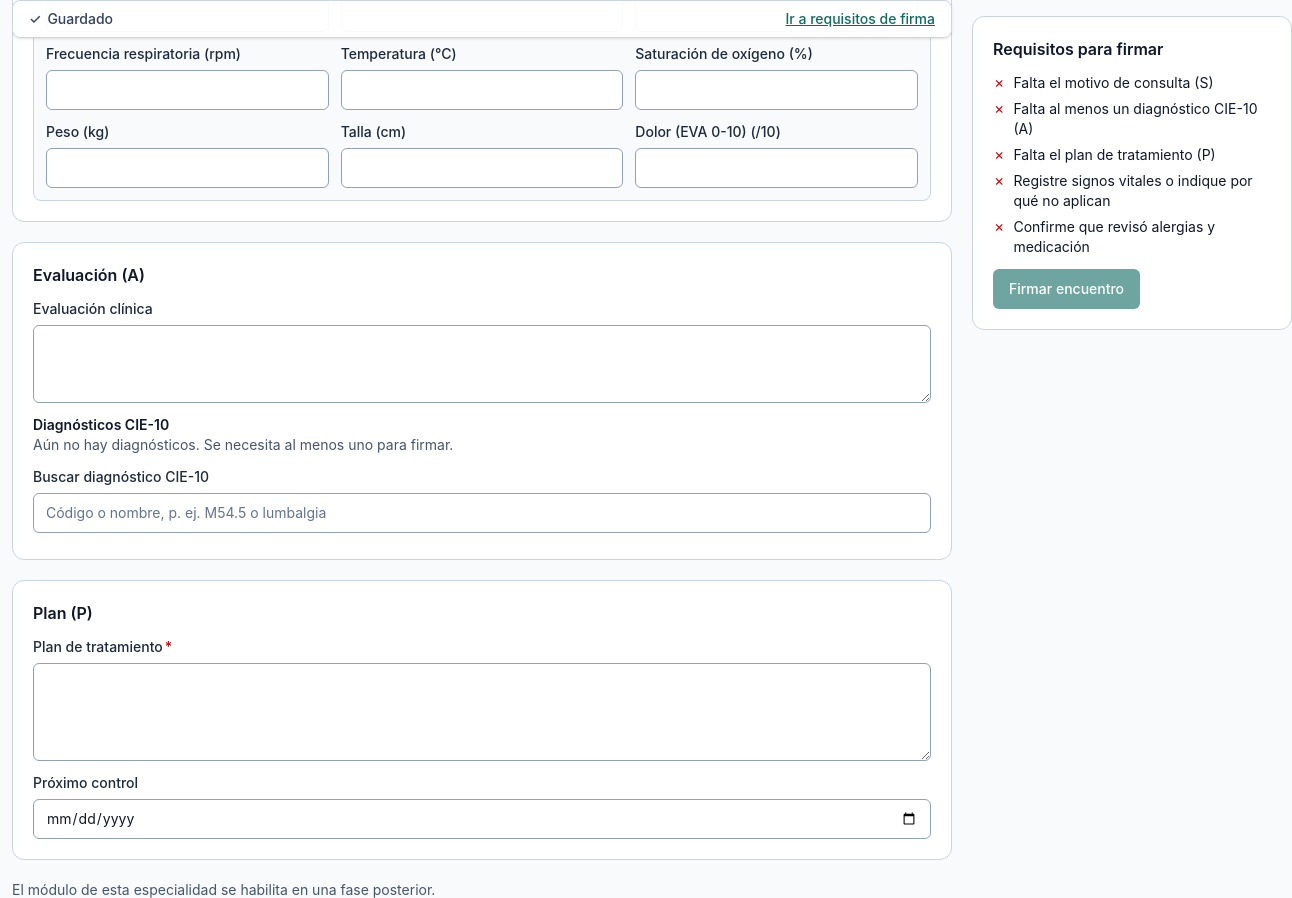
Test: EncounterWorkspace: borrador del doctor › agrega un diagnóstico desde el buscador y lo envía con un único principal
The image size is (1292, 898).
(page scrolled)
Type "lumb" into the dropdown labelled "Buscar diagnóstico CIE-10" at [482, 513], box [33,493,931,533]
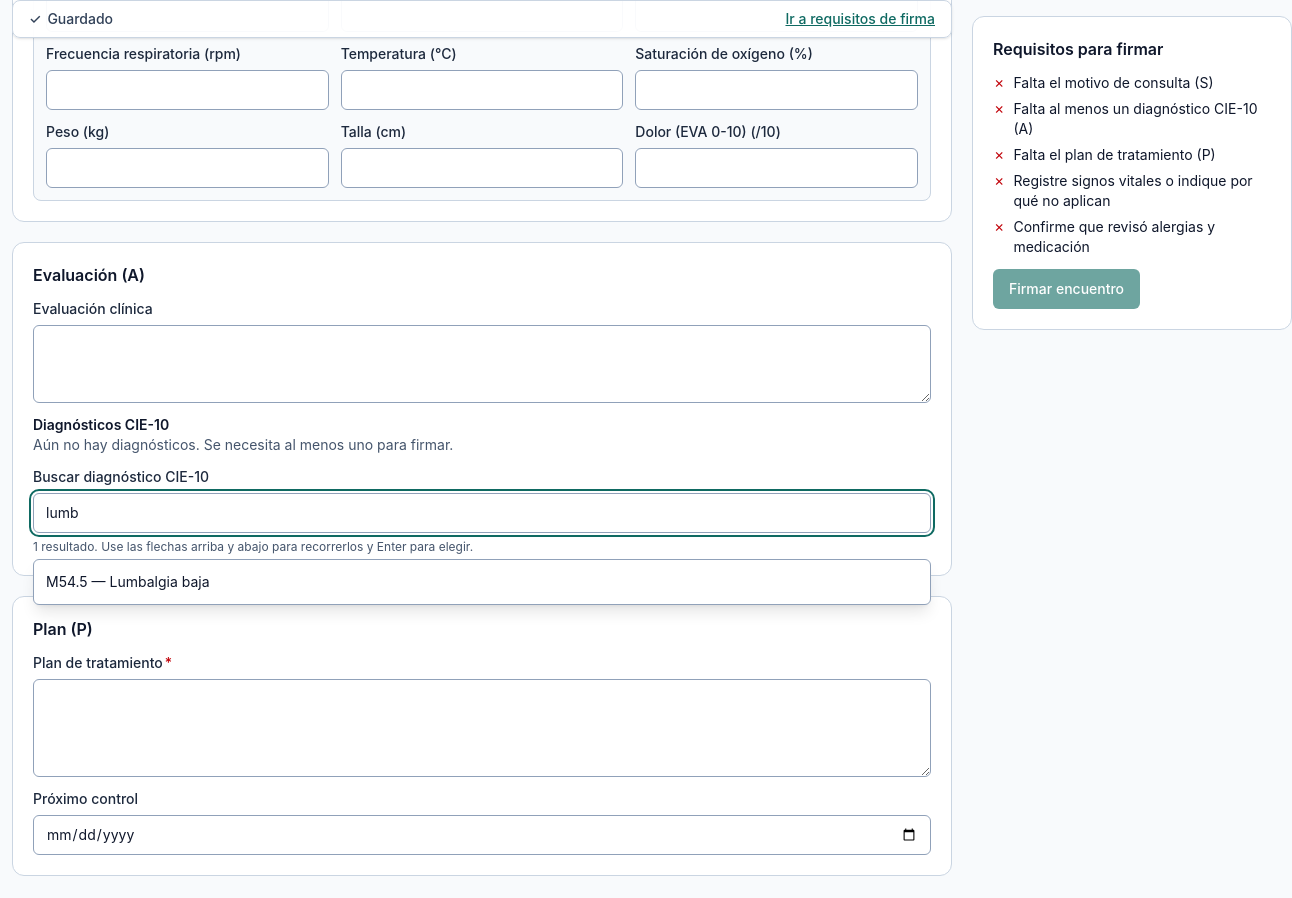
Click the option "M54.5 — Lumbalgia baja" at [128, 582], box [46,573,210,590]
Wait 1400 ms
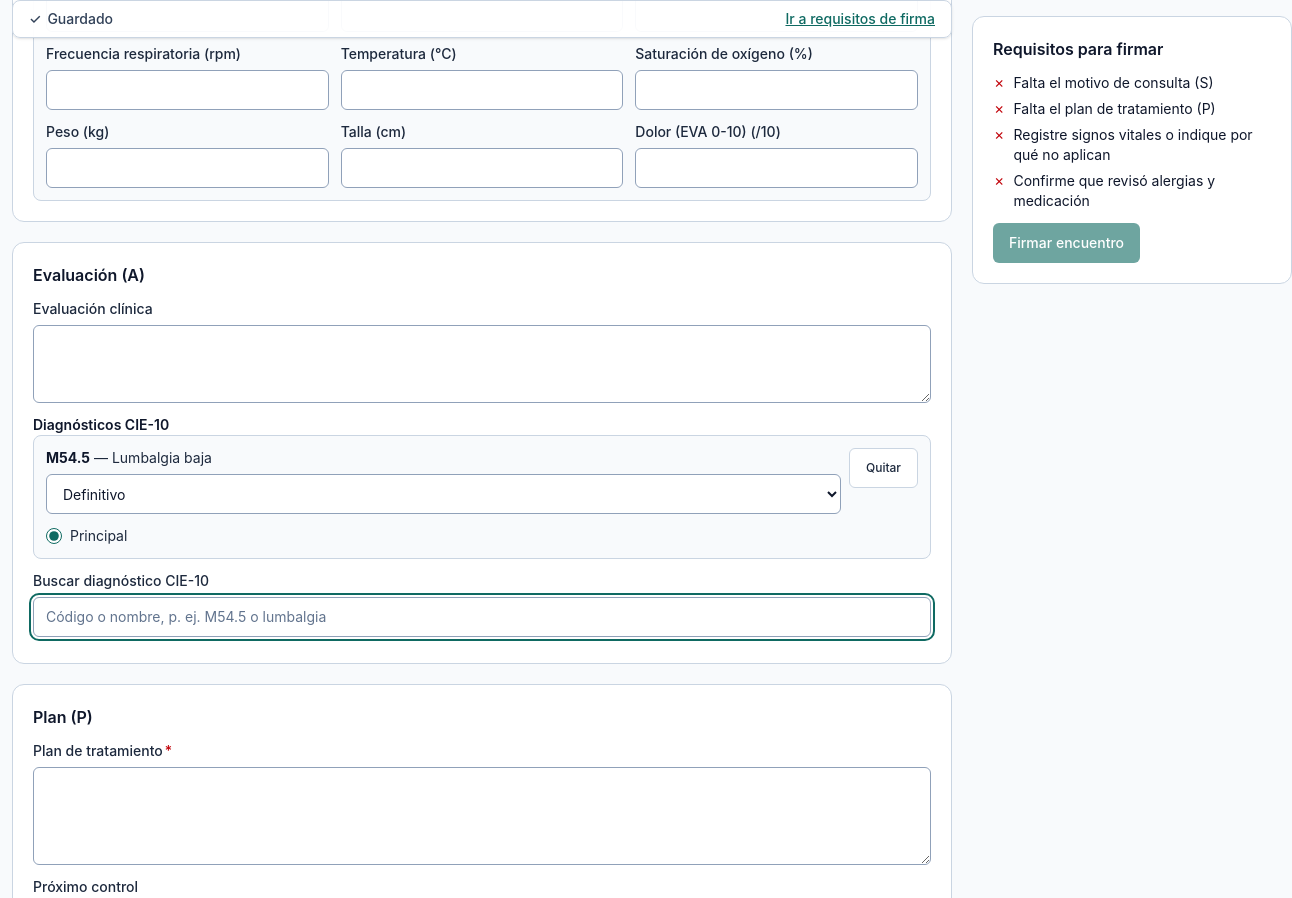
Now the radio button labelled "Principal" is checked, box [46,528,62,544]
Now the button with aria-label "Quitar diagnóstico M54.5" is shown, box [849,448,918,488]
